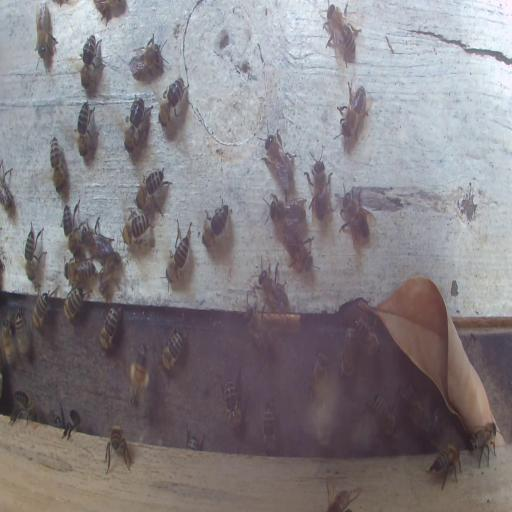nonpollenbee: (332, 76, 373, 150), (322, 1, 361, 67), (336, 182, 374, 249), (305, 143, 332, 225), (127, 33, 170, 78), (135, 166, 172, 218), (263, 128, 296, 184), (242, 301, 275, 357), (166, 218, 192, 286), (427, 441, 462, 491), (200, 200, 232, 252), (280, 224, 314, 272), (74, 99, 98, 166), (394, 380, 426, 429), (34, 2, 58, 66), (23, 220, 46, 284), (80, 33, 103, 95), (260, 260, 289, 309), (159, 78, 189, 125), (469, 420, 498, 468), (104, 424, 132, 472), (123, 96, 147, 152), (267, 194, 307, 226), (60, 200, 82, 258), (307, 346, 328, 406), (82, 218, 112, 259), (355, 315, 381, 361), (370, 391, 397, 435), (160, 326, 184, 372), (121, 210, 150, 248), (98, 251, 120, 297), (98, 306, 120, 351), (31, 288, 54, 331), (222, 374, 240, 428), (49, 136, 65, 194), (339, 325, 356, 379), (10, 390, 36, 424), (2, 316, 17, 372), (64, 260, 94, 286), (327, 487, 359, 511), (0, 159, 14, 210), (63, 286, 84, 320), (16, 308, 30, 358), (62, 405, 82, 440), (263, 398, 275, 452), (50, 409, 62, 427)
pollenbee: (128, 342, 150, 408)
